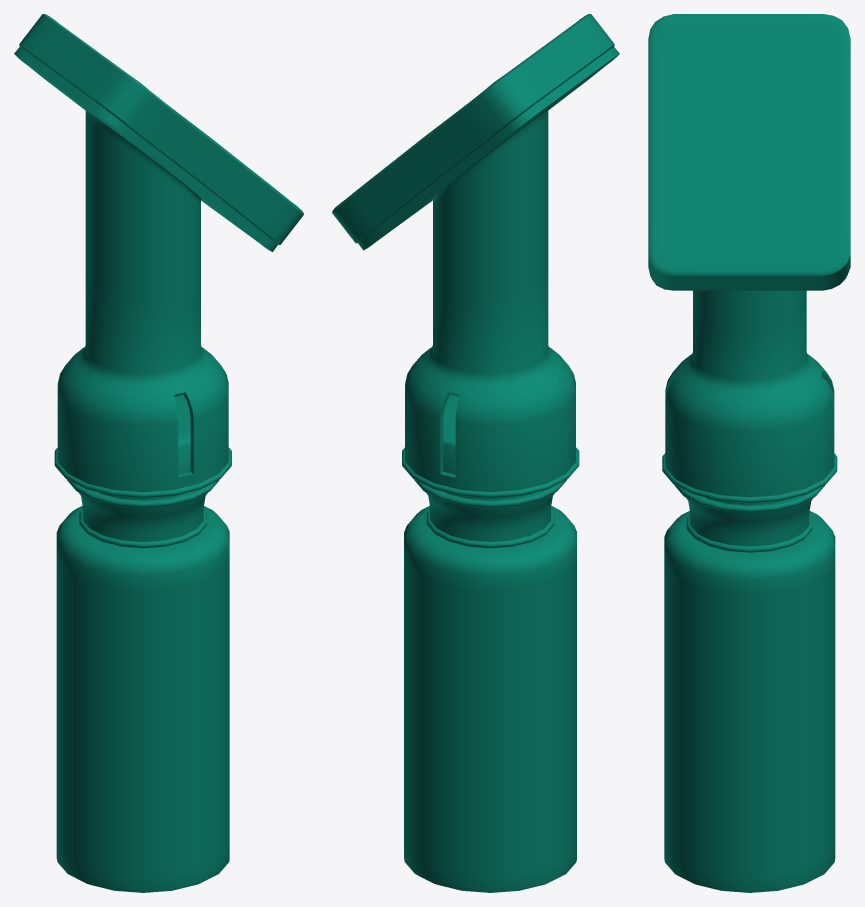
The model's file is SurgicalIodine.FBX.
3 renders of one model, left to right at view 1: azimuth 30°, elevation 25°; view 2: azimuth 150°, elevation 25°; view 3: azimuth 270°, elevation 25°, orthographic.
Parts seen in each view (by area): view 1: SurgicalIodine; view 2: SurgicalIodine; view 3: SurgicalIodine.
Part boxes in pixels (x1,y1,x2,y2): SurgicalIodine: (14, 14, 303, 892); SurgicalIodine: (332, 14, 619, 892); SurgicalIodine: (648, 14, 850, 892).
Bounding box in the file's own units: 3.92 × 15.26 × 3.43.
